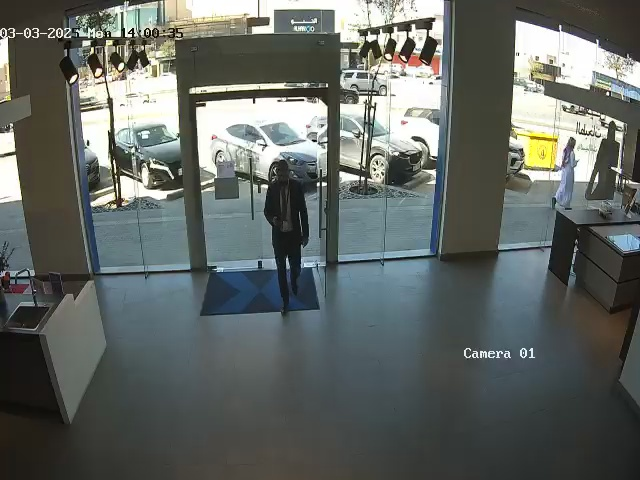employee: (263, 159, 310, 316)
male: (553, 136, 578, 210)
